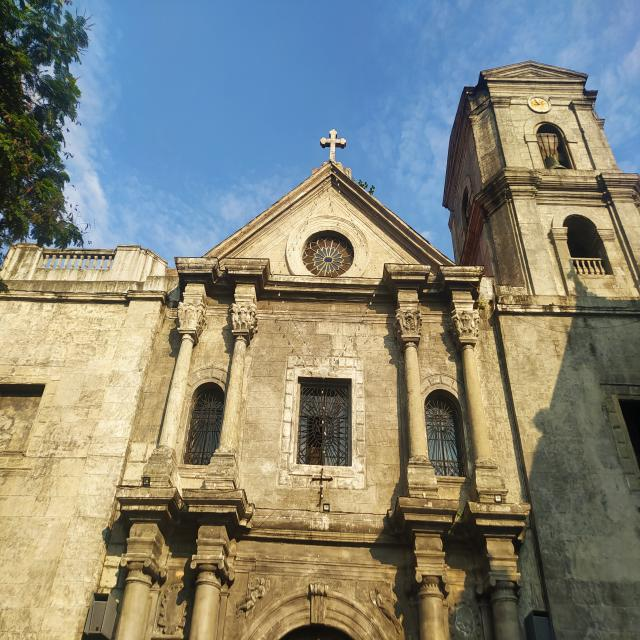San Agustin Church: (4, 45, 639, 630)
